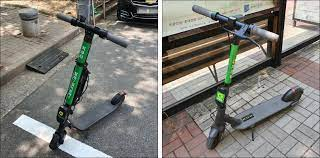kick_board: (192, 5, 303, 150), (49, 13, 128, 147)
kick_handler: (192, 5, 278, 45), (57, 15, 129, 48)
kick_neck: (53, 43, 89, 121), (214, 45, 238, 114)
kick_wheel: (207, 123, 224, 149), (285, 86, 303, 105), (52, 132, 66, 148), (112, 92, 127, 105)
